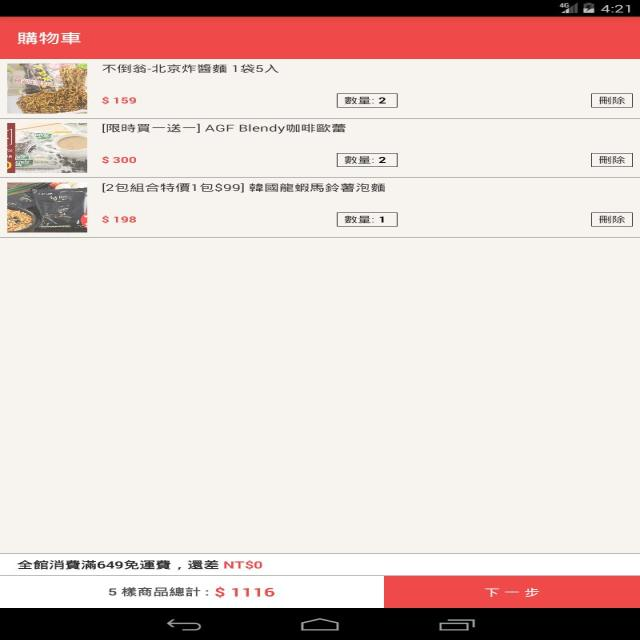button: (1, 577, 385, 608), (386, 576, 640, 608), (337, 152, 397, 168), (337, 93, 398, 108), (335, 214, 399, 226), (591, 212, 633, 227), (590, 152, 634, 166), (593, 93, 629, 107)
heading: (14, 31, 85, 47)
image: (7, 62, 88, 115), (7, 122, 88, 172), (7, 182, 88, 232)
text: (98, 181, 387, 196), (18, 557, 264, 573), (92, 122, 348, 134), (99, 64, 282, 76), (102, 214, 142, 227), (101, 96, 143, 105), (99, 157, 142, 165)
